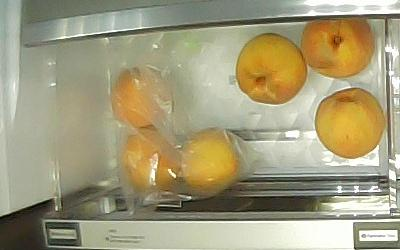peach: (235, 32, 308, 105), (314, 87, 384, 158), (300, 17, 373, 79)
peach_vinyl: (111, 66, 174, 129), (180, 130, 238, 191), (123, 127, 178, 190)
